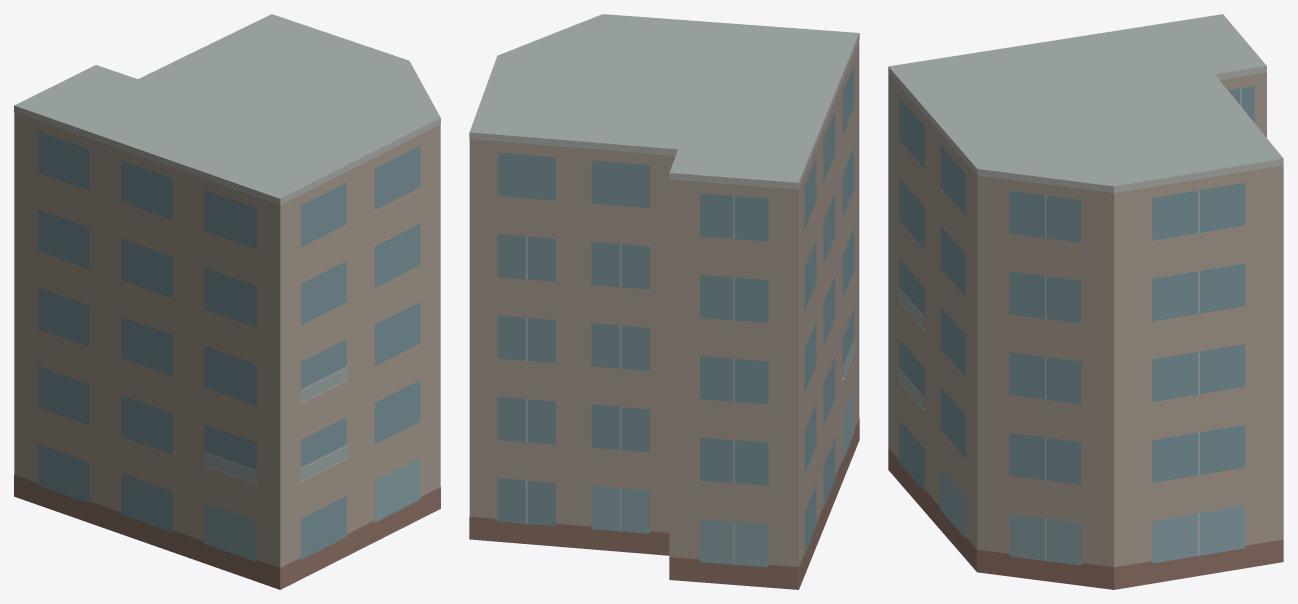
The model's file is survey-upis-32864814.glb.
3 renders of one model, left to right at view 1: azimuth 30°, elevation 25°; view 2: azimuth 150°, elevation 25°; view 3: azimuth 270°, elevation 25°, orthographic. The views are drawn at different scales.
Parts seen in each view (by area): view 1: survey-upis-32864814.tmp; view 2: survey-upis-32864814.tmp; view 3: survey-upis-32864814.tmp.
Part boxes in pixels (bbox=[...]): survey-upis-32864814.tmp: bbox=[14, 14, 440, 589]; survey-upis-32864814.tmp: bbox=[469, 14, 859, 589]; survey-upis-32864814.tmp: bbox=[888, 14, 1283, 589].
Bounding box in the file's own units: 13.62 × 14.85 × 13.2.
